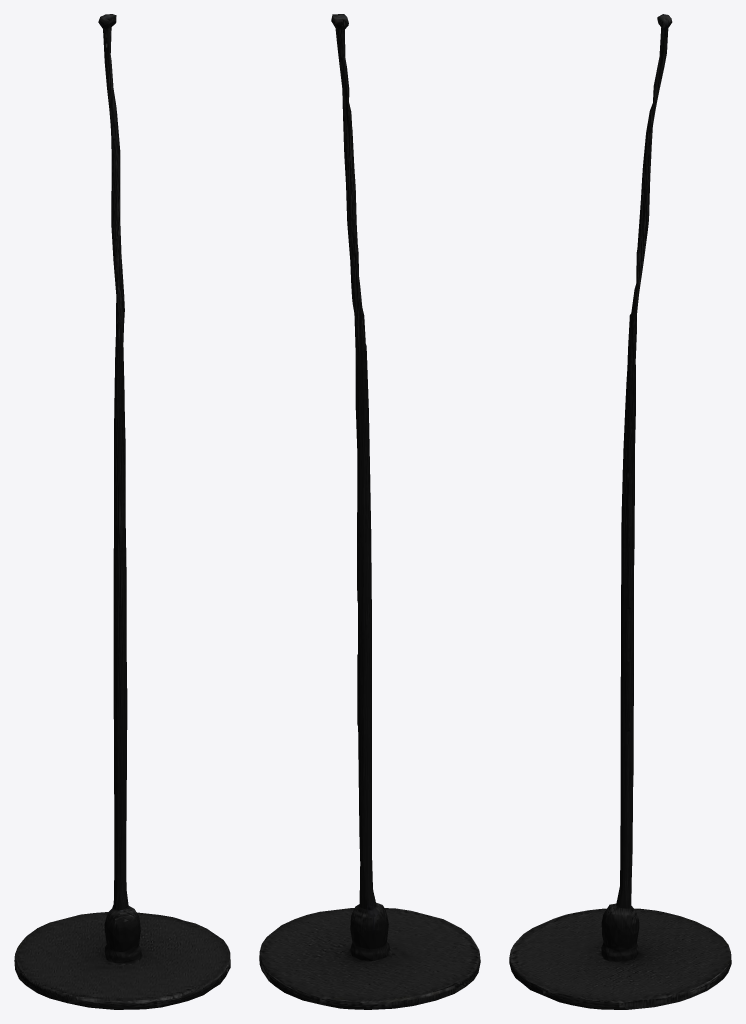
The model's file is j-lampadaire.glb.
3 views of the same model, side by side, from view 1: azimuth 30°, elevation 25°; view 2: azimuth 150°, elevation 25°; view 3: azimuth 270°, elevation 25° (orthographic). The views are drawn at different scales.
Parts seen in each view (by area): view 1: geometry_0; view 2: geometry_0; view 3: geometry_0.
Boxes of the visible parts, x1,y1,x2,y2 form: geometry_0: (14, 14, 230, 1009); geometry_0: (259, 14, 480, 1009); geometry_0: (509, 14, 731, 1009).
Bounding box in the file's own units: 0.2119 × 1 × 0.212.
1 material, 1 textured.
